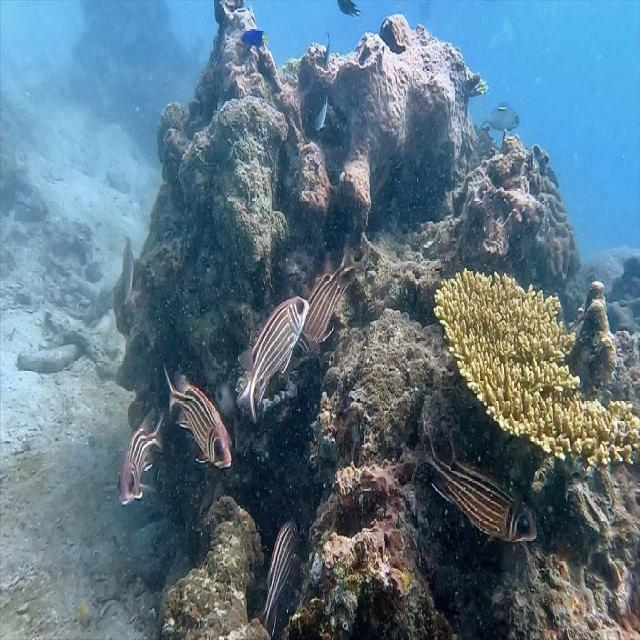Asker Baligi: (422, 447, 538, 549), (244, 289, 314, 422), (162, 361, 232, 471), (115, 397, 155, 515)
